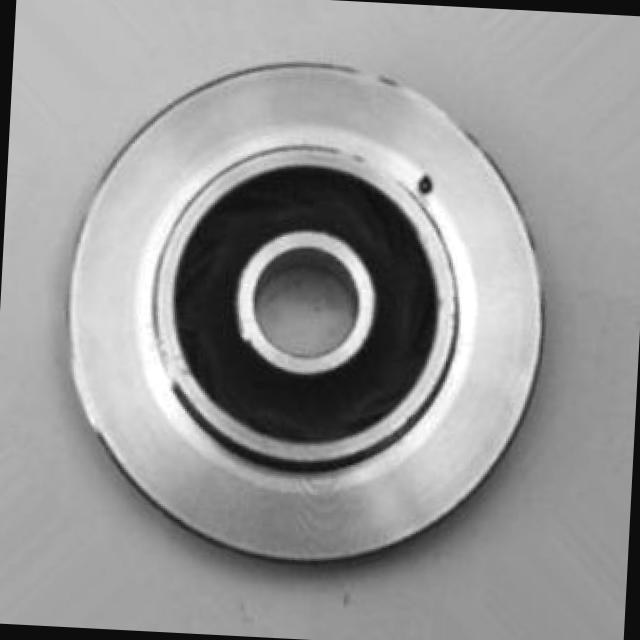Defect: (418, 158, 448, 210)
